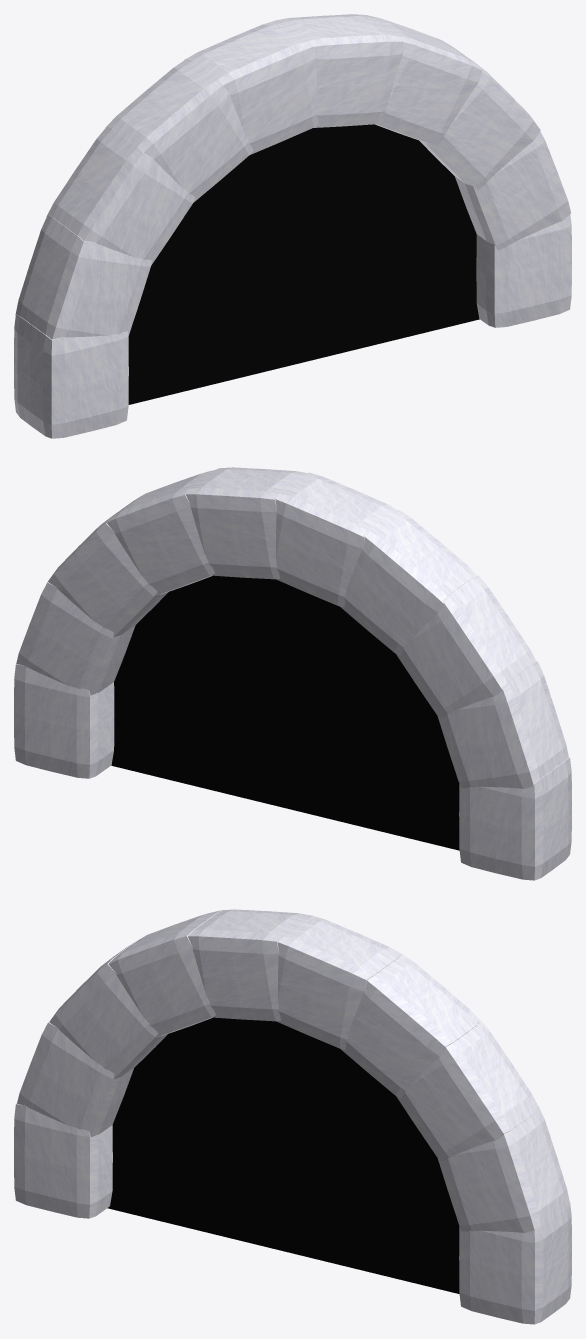
Rendered from Igloo Enter.fbx.
The picture shows the model from 3 angles, top to bottom: view 1: azimuth 30°, elevation 25°; view 2: azimuth 150°, elevation 25°; view 3: azimuth 330°, elevation 25°; orthographic projection.
Parts seen in each view (by area): view 1: Igloo Enter; view 2: Igloo Enter; view 3: Igloo Enter.
Part boxes in pixels (x1,y1,x2,y2): Igloo Enter: (14,14,571,438); Igloo Enter: (14,467,571,880); Igloo Enter: (14,909,571,1324).
Size of the model in its own units: 305 by 184 by 45.39.
